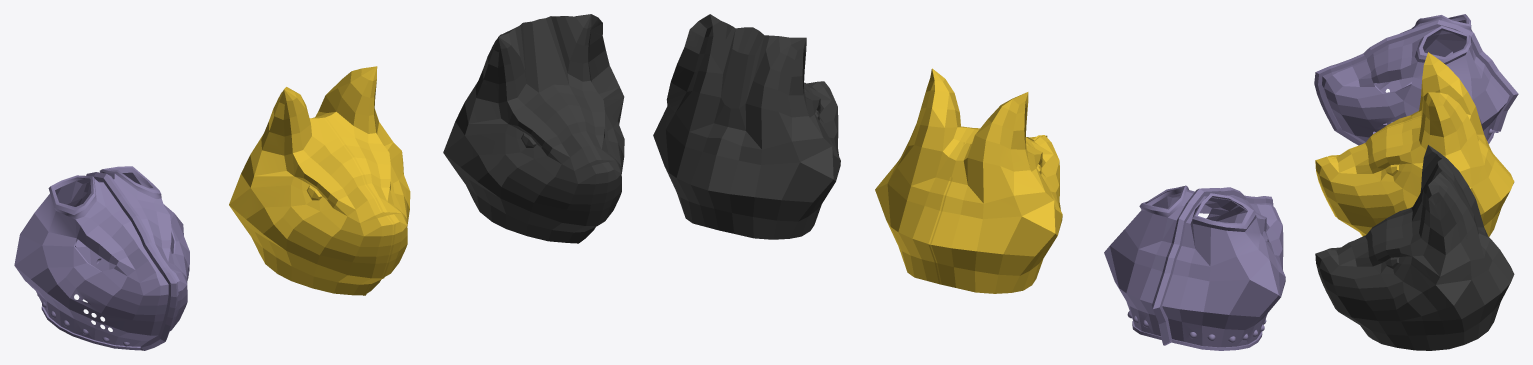
File: HELMET_.fbx
3 views of the same model, side by side, from view 1: azimuth 30°, elevation 25°; view 2: azimuth 150°, elevation 25°; view 3: azimuth 270°, elevation 25° (orthographic). The views are drawn at different scales.
Parts seen in each view (by area): view 1: polySurface1.002, polySurface1.004, polySurface1.001; view 2: polySurface1.002, polySurface1.004, polySurface1.001; view 3: polySurface1.002, polySurface1.004, polySurface1.001.
Part boxes in pixels (<box>): polySurface1.002: <box>443,14,624,243</box>; polySurface1.004: <box>229,66,410,295</box>; polySurface1.001: <box>14,166,189,350</box>; polySurface1.002: <box>653,14,840,239</box>; polySurface1.004: <box>875,68,1062,293</box>; polySurface1.001: <box>1104,185,1285,350</box>; polySurface1.002: <box>1315,145,1514,350</box>; polySurface1.004: <box>1315,52,1514,236</box>; polySurface1.001: <box>1314,14,1518,145</box>.
Bounding box in the file's own units: 265 × 83.43 × 87.75.
